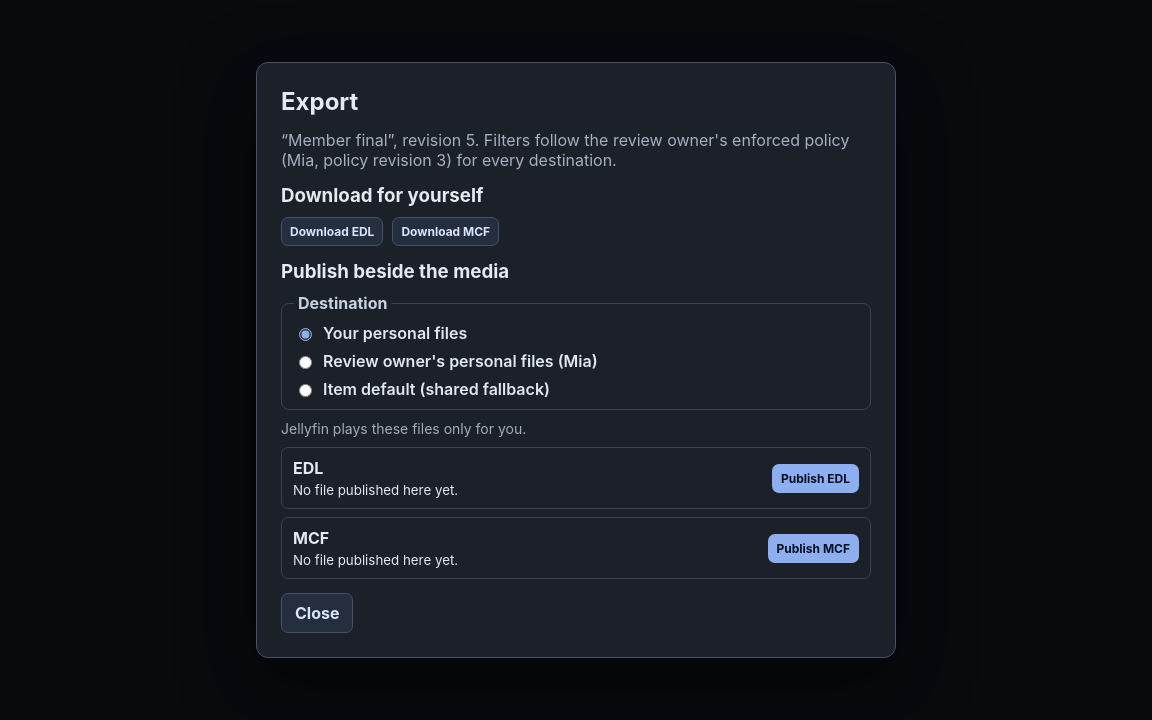
Test: lets an admin target the review owner and names that destination and the policy source
The width and height of the screenshot is (1152, 720).
Check: the dialog "Export" shows "Filters follow the review owner's enforced policy (Mia, policy revision 3) for every destination.", box [256, 62, 896, 658]
Check: the dialog "Export" shows "Jellyfin plays these files only for you.", box [281, 420, 526, 437]
Click the radio button labelled "Review owner's personal files (Mia)" at (306, 362), box [299, 356, 312, 369]
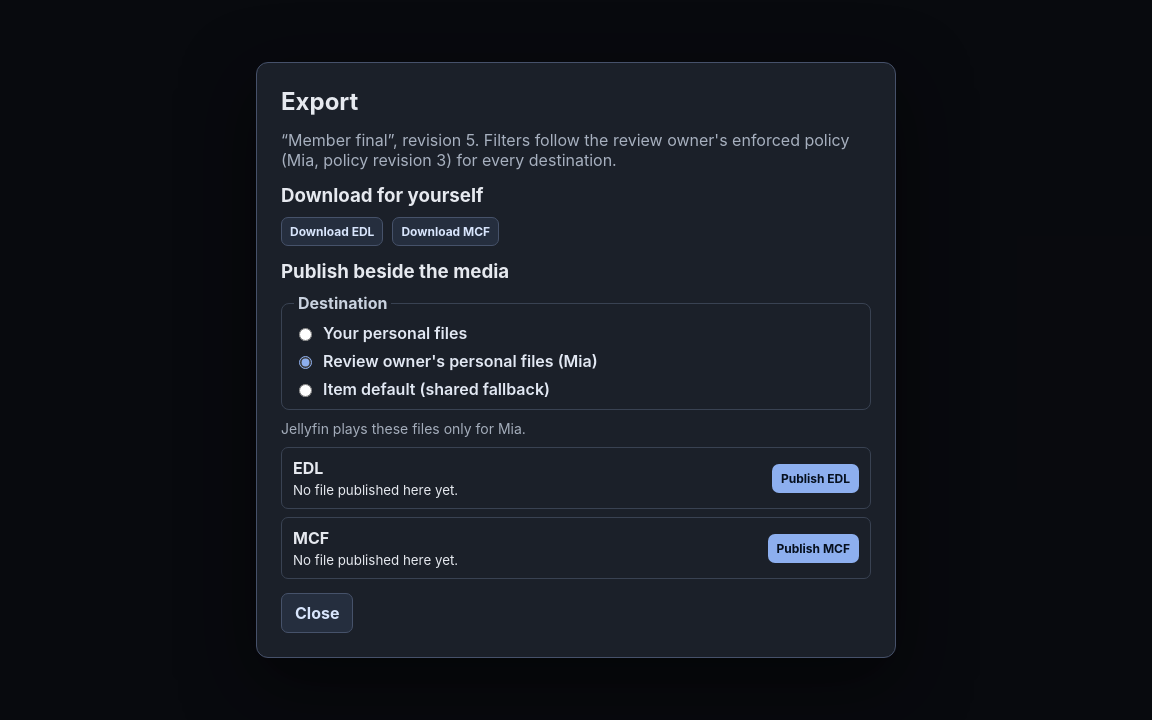
Check: the dialog "Export" shows "Jellyfin plays these files only for Mia.", box [281, 420, 526, 437]
Click the radio button labelled "Item default (shared fallback)" at (306, 390), box [299, 384, 312, 397]
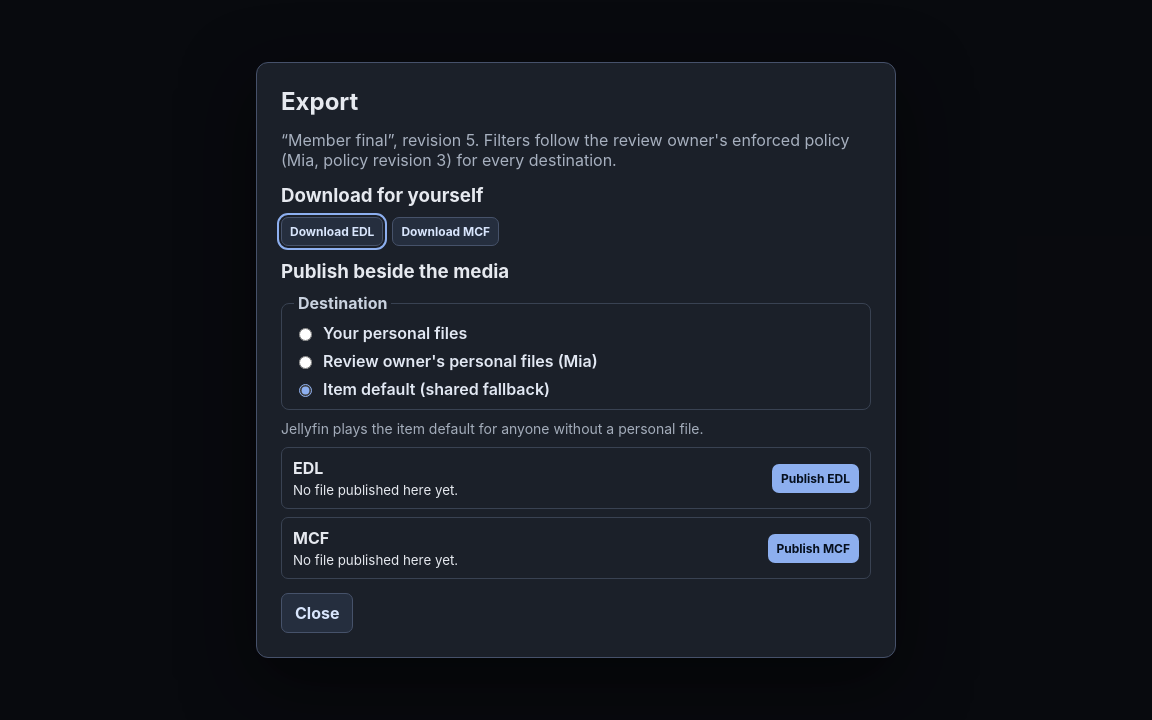
Check: the dialog "Export" shows "Jellyfin plays the item default for anyone without a personal file.", box [281, 420, 704, 437]
